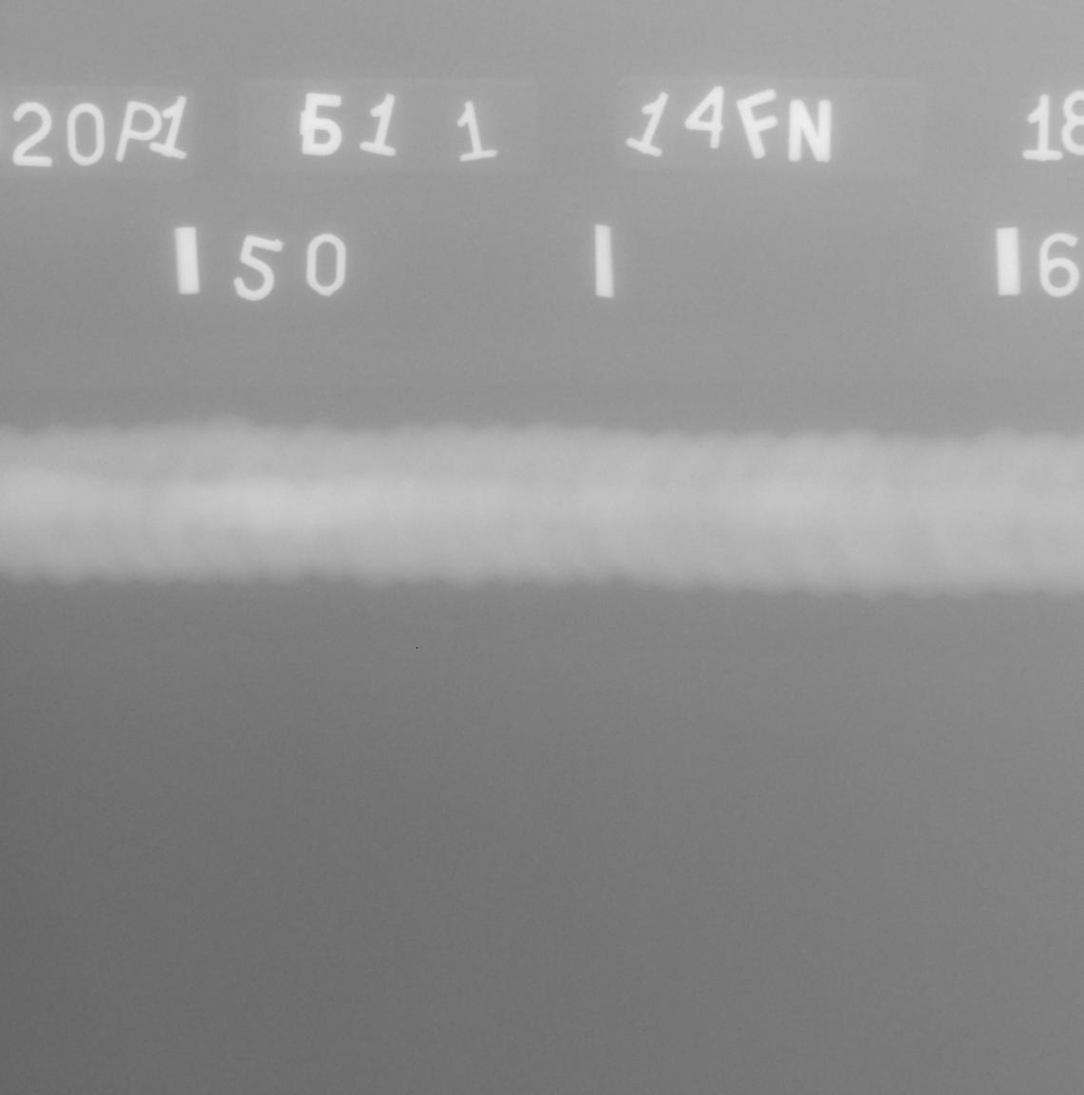Pore/Porosity: (465, 498, 469, 503), (1002, 514, 1005, 517)
